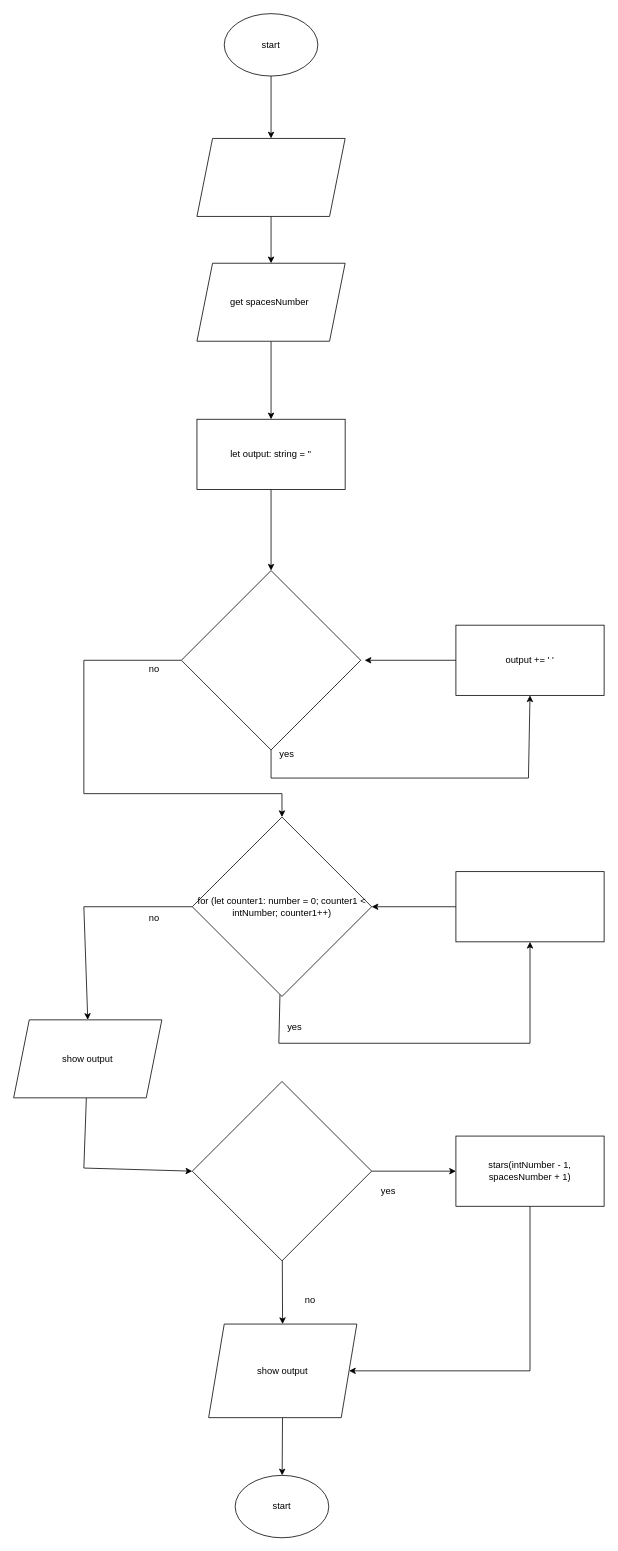
The diagram is 618 pixels wide and 1551 high, and some of its shapes have lost their labels. The shapes that lost their labels are listed below. From the top down, each one's centre as x and y in pixels, then its label:
At point (270, 177): "get intNumber".
At point (271, 660): "for (let counter: number = 0; counter < spacesNumber; counter++)".
At point (529, 906): "output += '* '".
At point (281, 1171): "if (intNumber > 1)".
